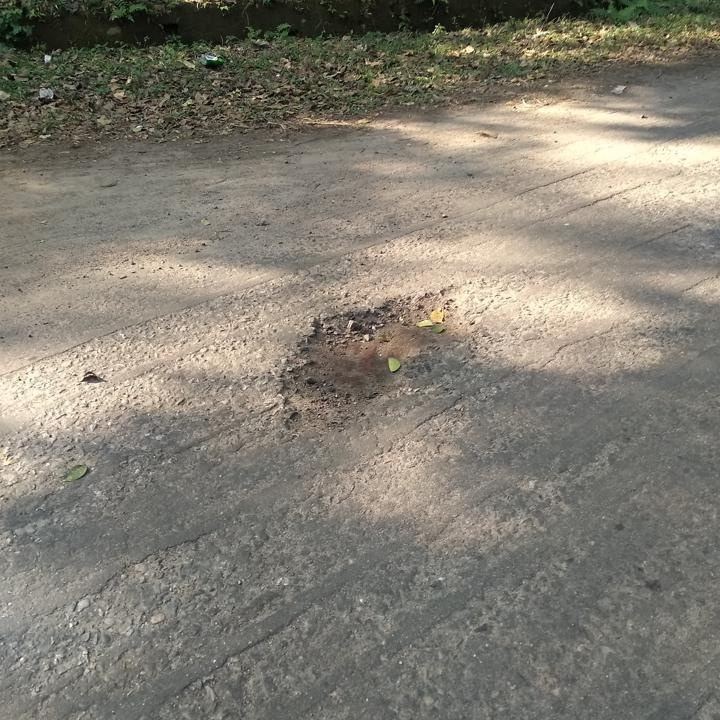pothole: (270, 278, 477, 437)
